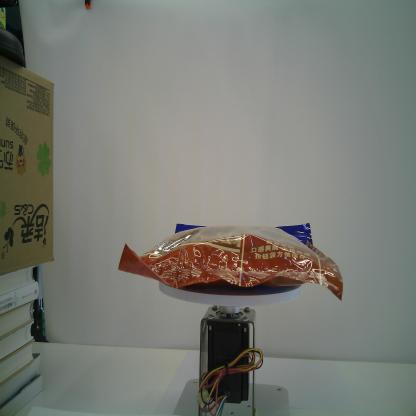Dried Food: (116, 221, 344, 302)
